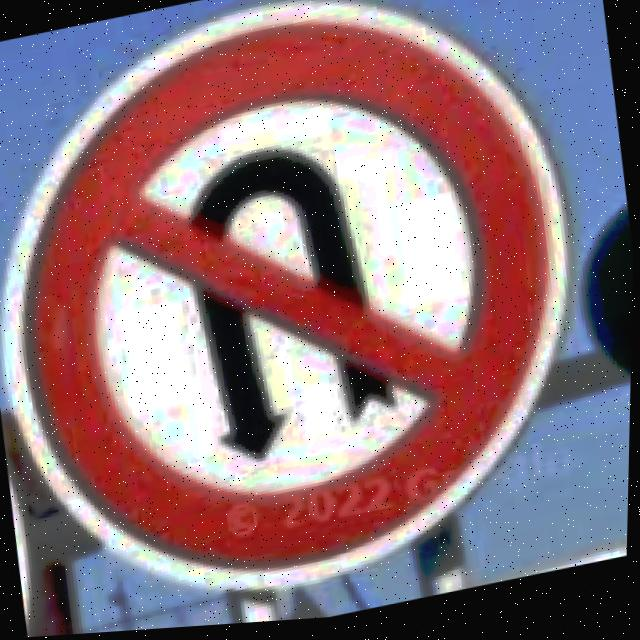nouturn: (30, 29, 544, 574)
